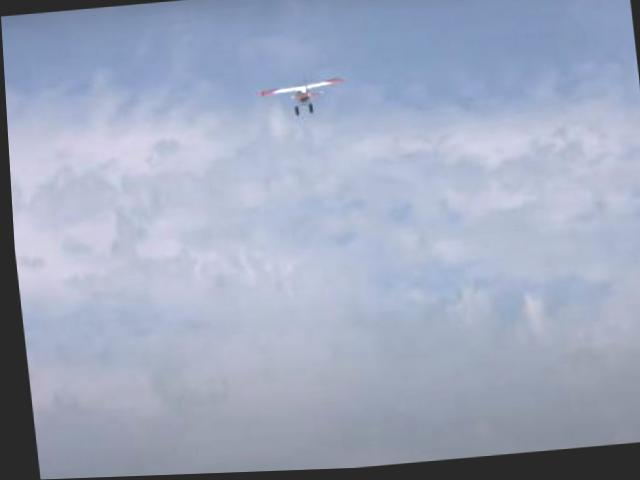uav: (255, 68, 347, 132)
